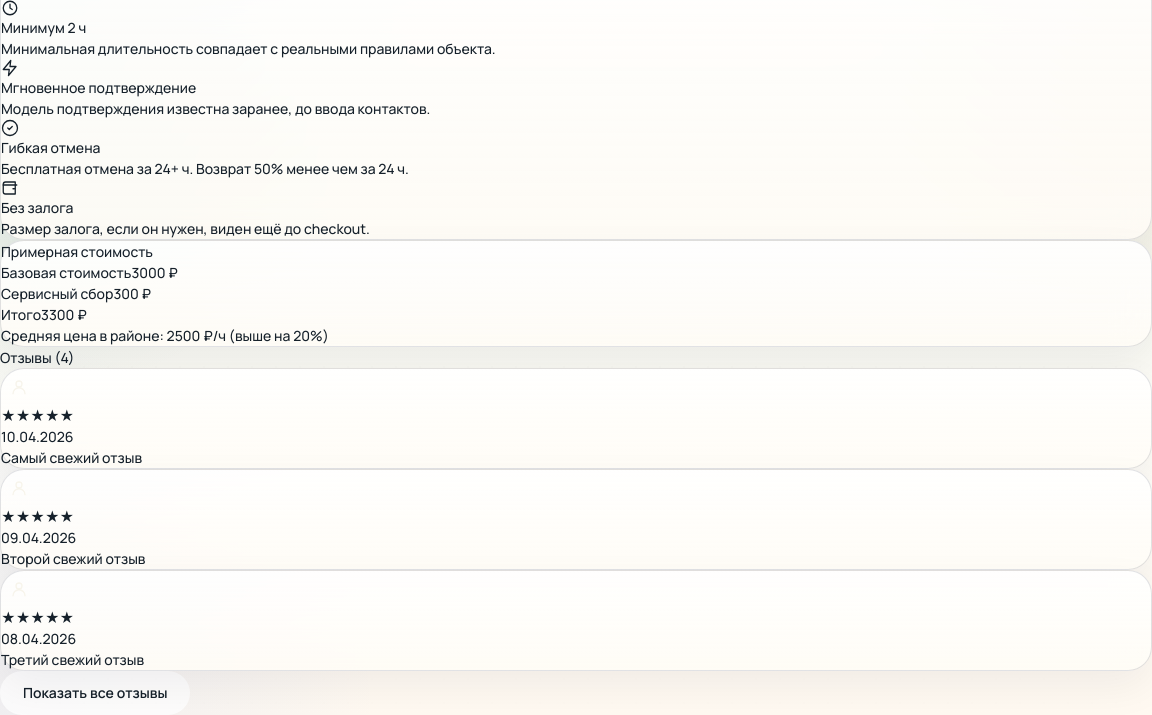
Test: BathhouseDetail › shows only three latest reviews until all reviews are opened
This screenshot has width=1152, height=715.
(page scrolled)
Expected: the text "Самый свежий отзыв" is shown, [1, 448, 142, 467]
Expected: the text "Второй свежий отзыв" is shown, [1, 549, 146, 568]
What coordinates should you click on to do the following:
click the button "Показать все отзывы"
I would click on:
 (95, 693)
Its box is [0, 671, 190, 714].
(page scrolled)
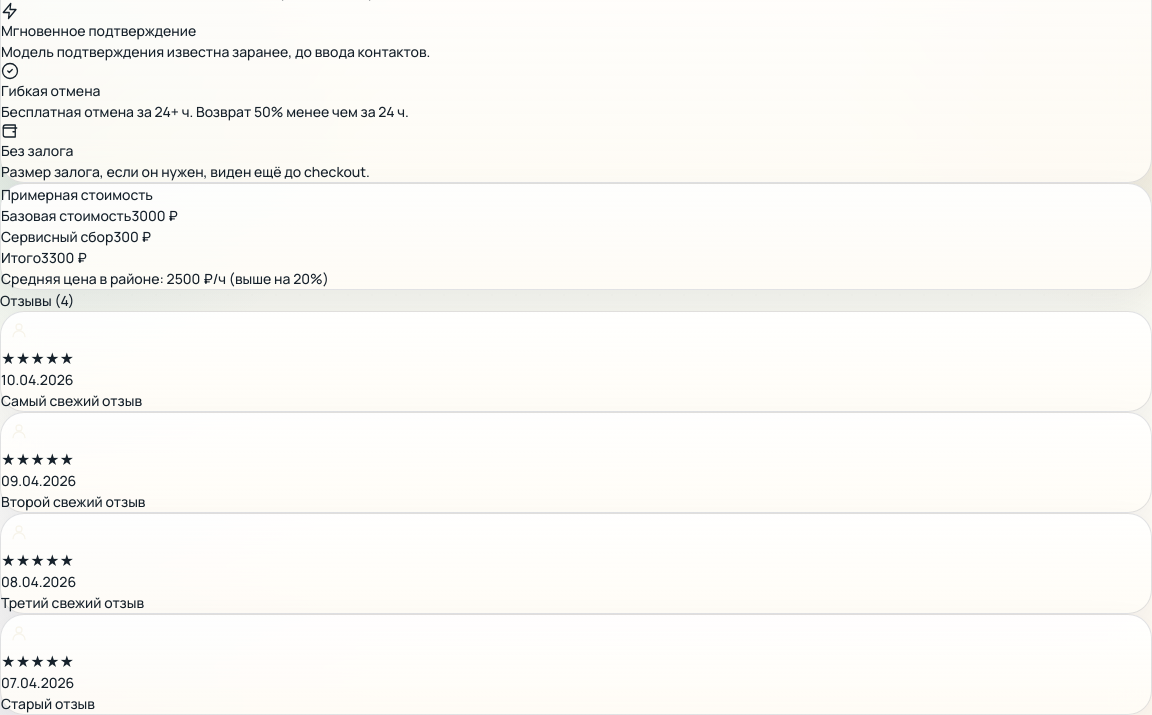
Now the text "Старый отзыв" is shown, box [1, 694, 95, 713]
